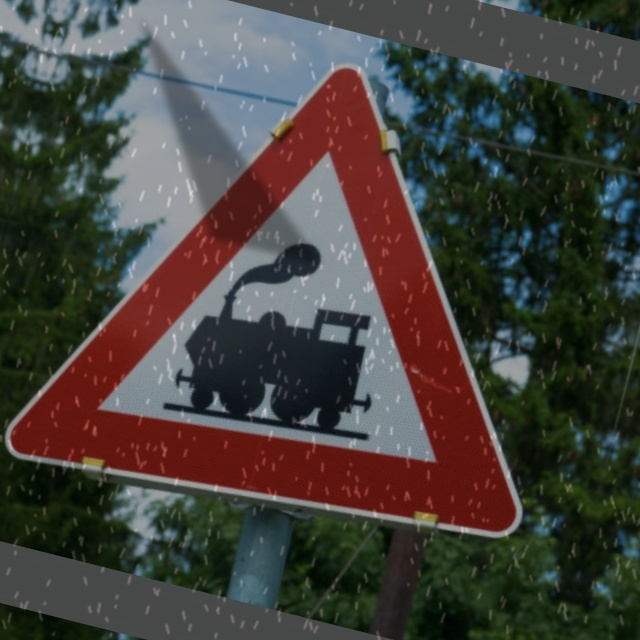Unguarded_Level_Crossing: (22, 13, 605, 564)
